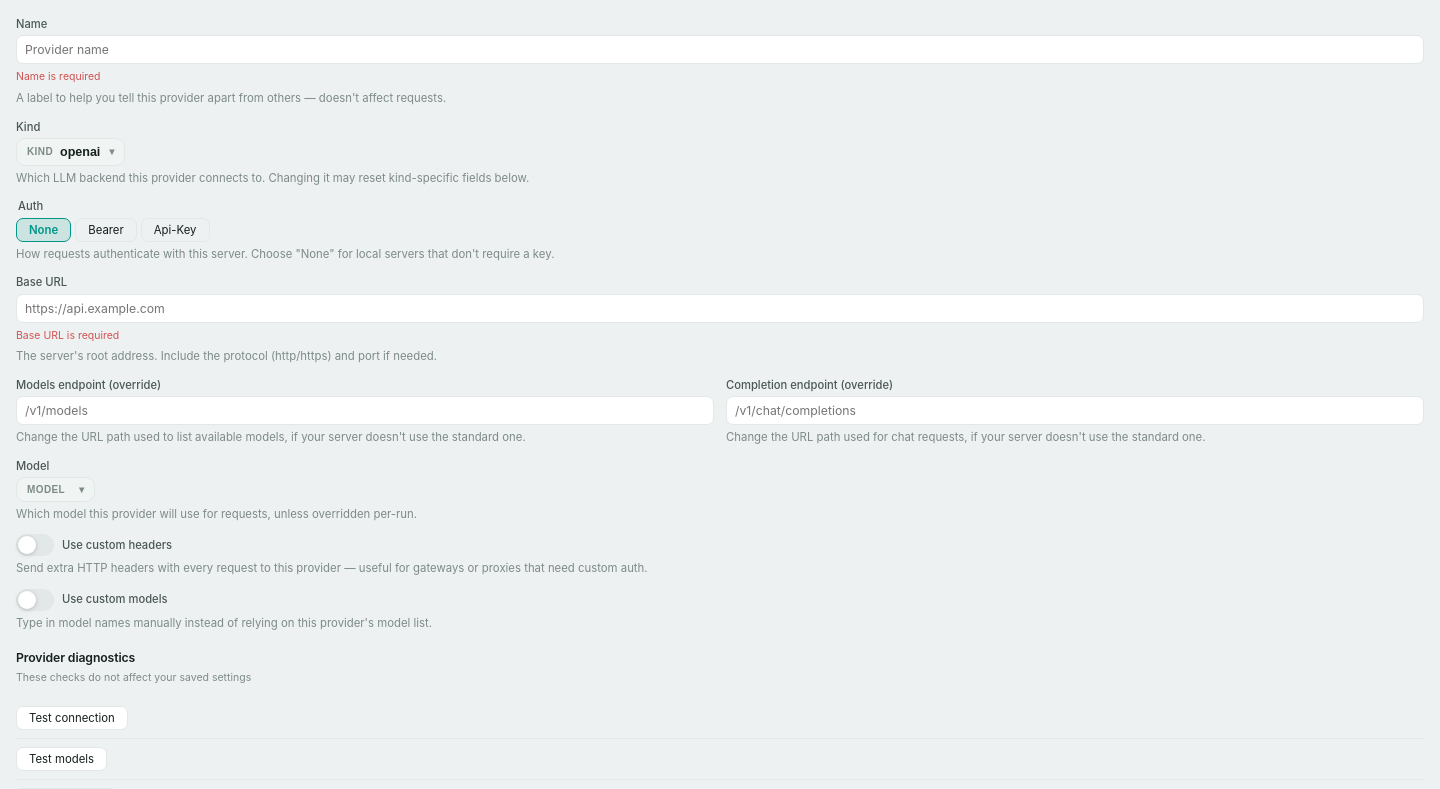
Test: ProviderForm model picker — populated by Test models › populates the model picker from a successful Test models run, without Save
The width and height of the screenshot is (1440, 789).
What coordinates should you click on to do the following:
click the button "Test models"
I would click on:
 (62, 759)
Its box is [16,747,107,771].
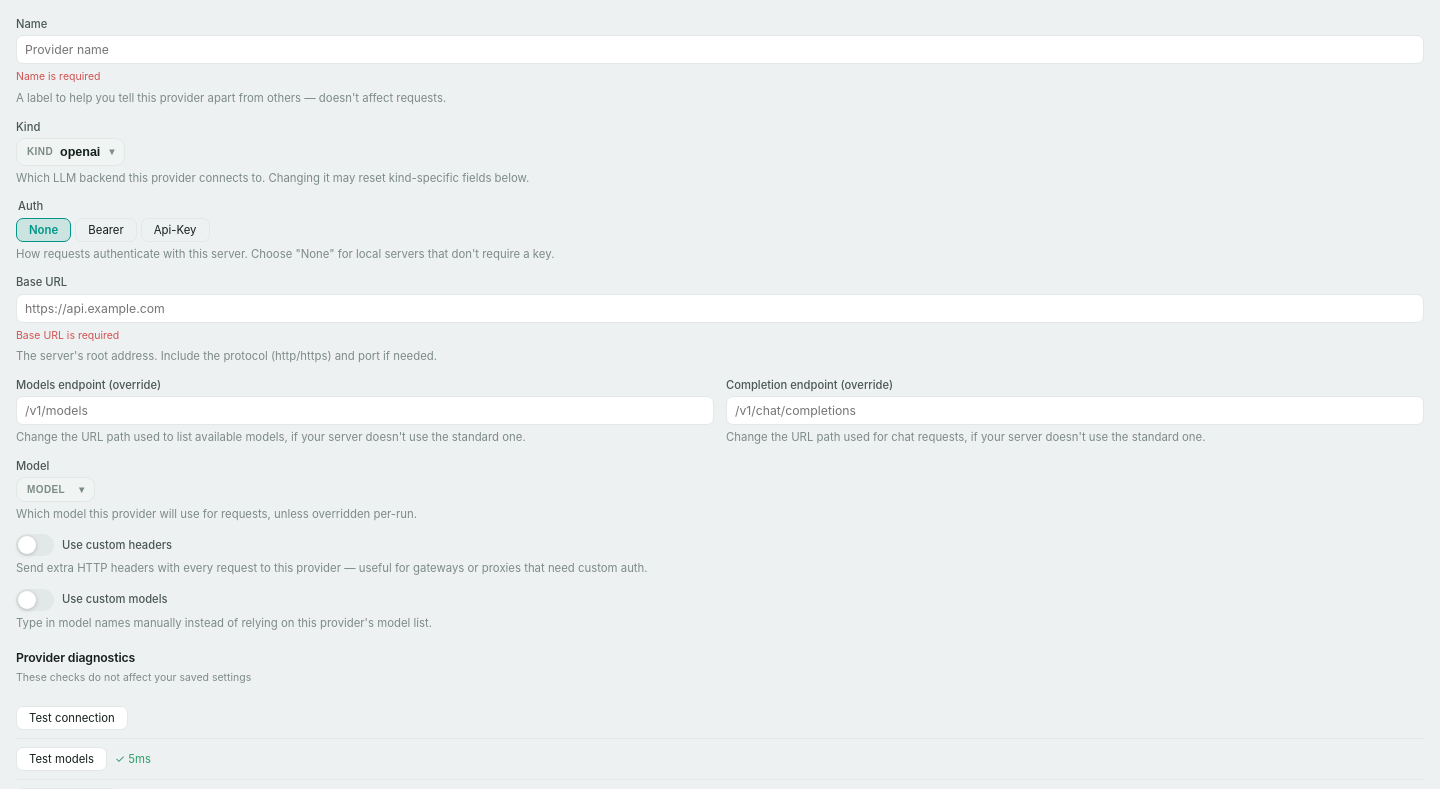
What coordinates should you click on to do the following:
click the button "Model ▾"
I would click on:
 (56, 490)
Its box is [16,477,95,502].
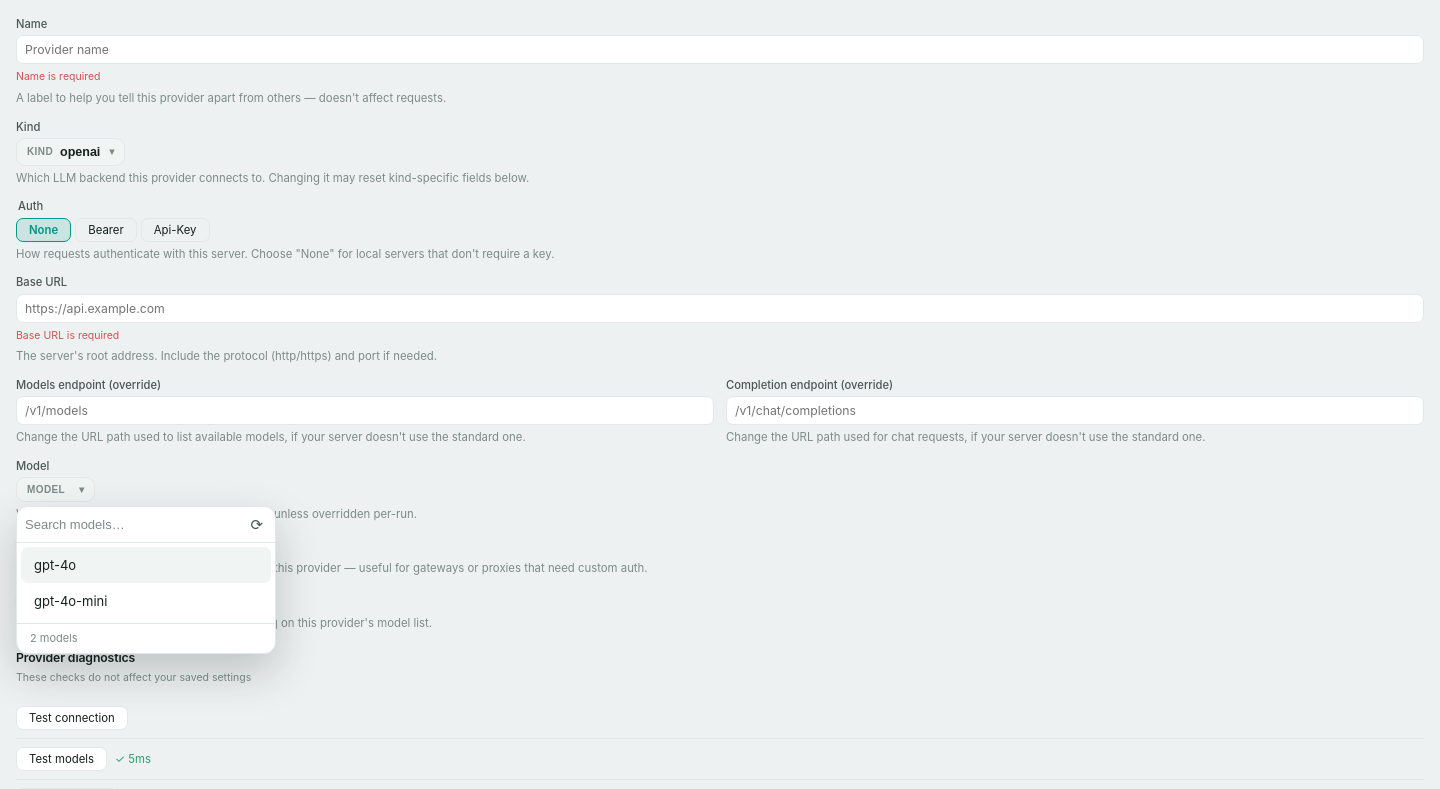
Now the option "gpt-4o" is shown, box [21,547,271,583]
Now the option "gpt-4o-mini" is shown, box [34,593,108,609]
